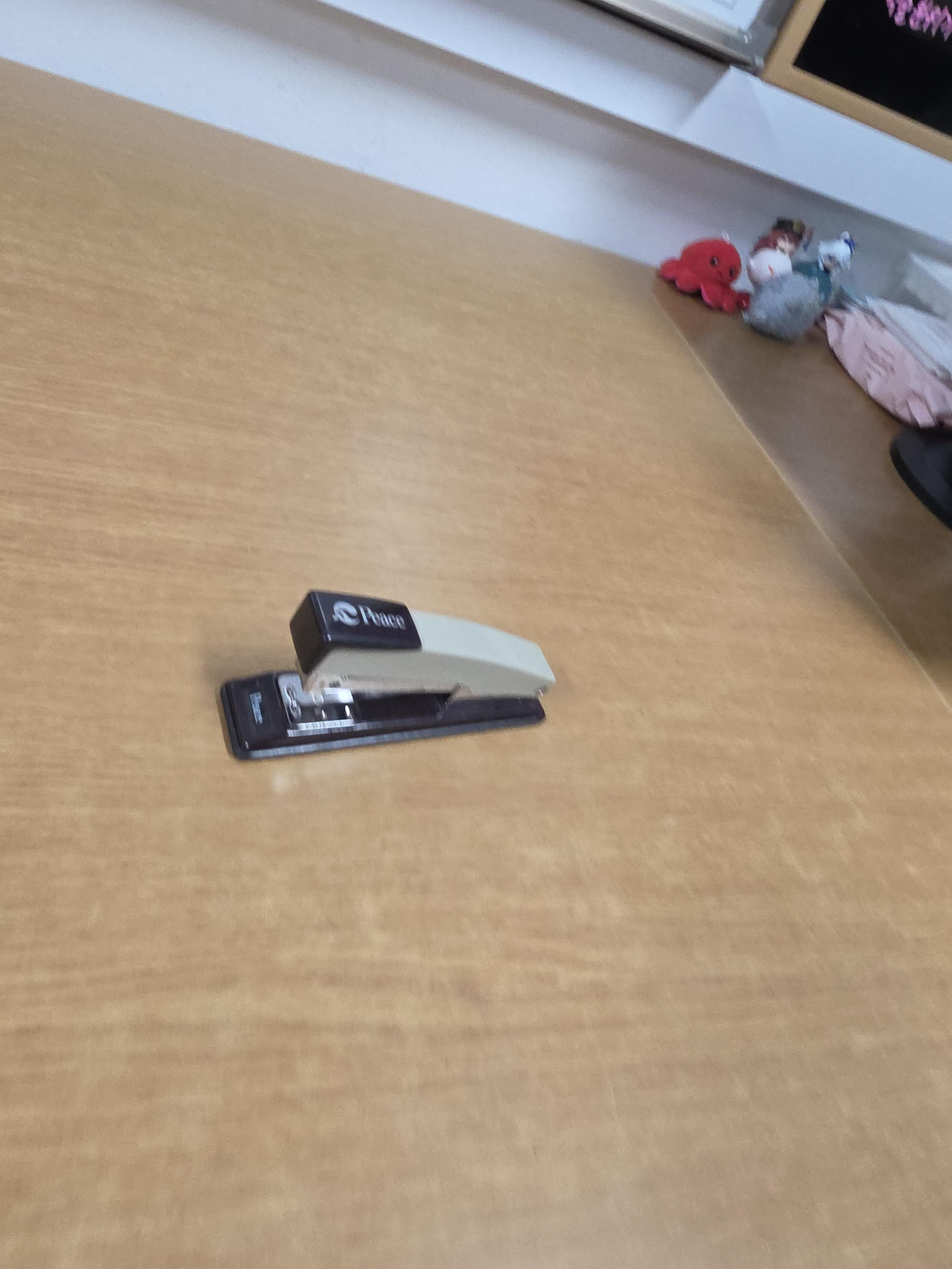stapler: (218, 588, 559, 761)
